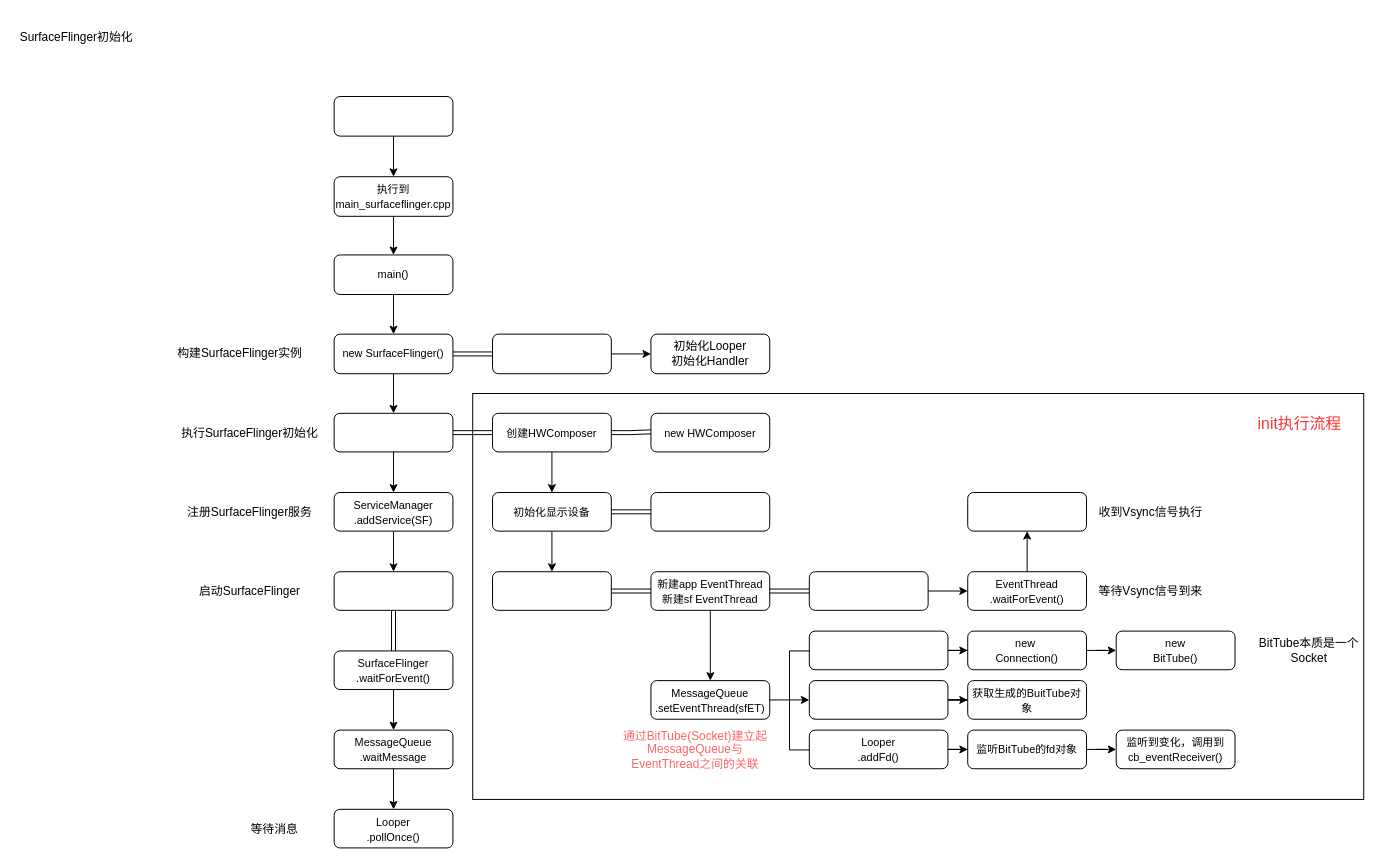
Some shapes in this 1381 by 865 pixel diagram are drawn without their labels. Each missing label, with the centre of its shape:
EventThread .createEventConnection: pixel 878 650
EventThread .threadLoop(): pixel 868 590
EventThread::Connection .postEvent(): pixel 1027 511
EventThread:Connection .getDataChannel: pixel 878 699
initializeDisplays: pixel 710 511
init进程 执行surfacefkinger.rc: pixel 393 116
MessageQueue .init: pixel 551 353
SurfaceFlinger .init(): pixel 393 432
SurfaceFlinger .run(): pixel 393 590
运行EventThread: pixel 551 590
